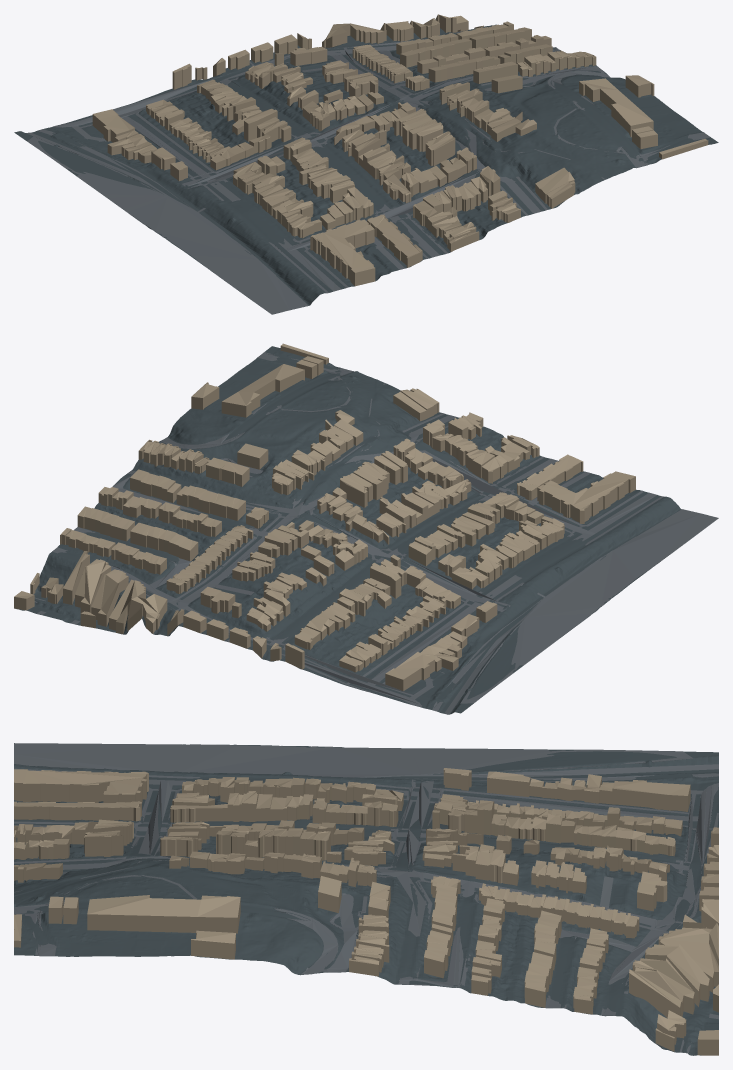
The model's file is epsg26910-1439-10881.lod0.glb.
3 views of the same model, one above another, from view 1: azimuth 30°, elevation 25°; view 2: azimuth 150°, elevation 25°; view 3: azimuth 270°, elevation 25° (orthographic). The views are drawn at different scales.
Visible parts, largest first — view 1: epsg26910-1439-10881-lod0; view 2: epsg26910-1439-10881-lod0; view 3: epsg26910-1439-10881-lod0.
Part boxes in pixels (x1,y1,x2,y2): epsg26910-1439-10881-lod0: (14, 14, 718, 314); epsg26910-1439-10881-lod0: (14, 343, 718, 714); epsg26910-1439-10881-lod0: (14, 743, 718, 1055).
Bounding box in the file's own units: 384 × 74.61 × 384.
